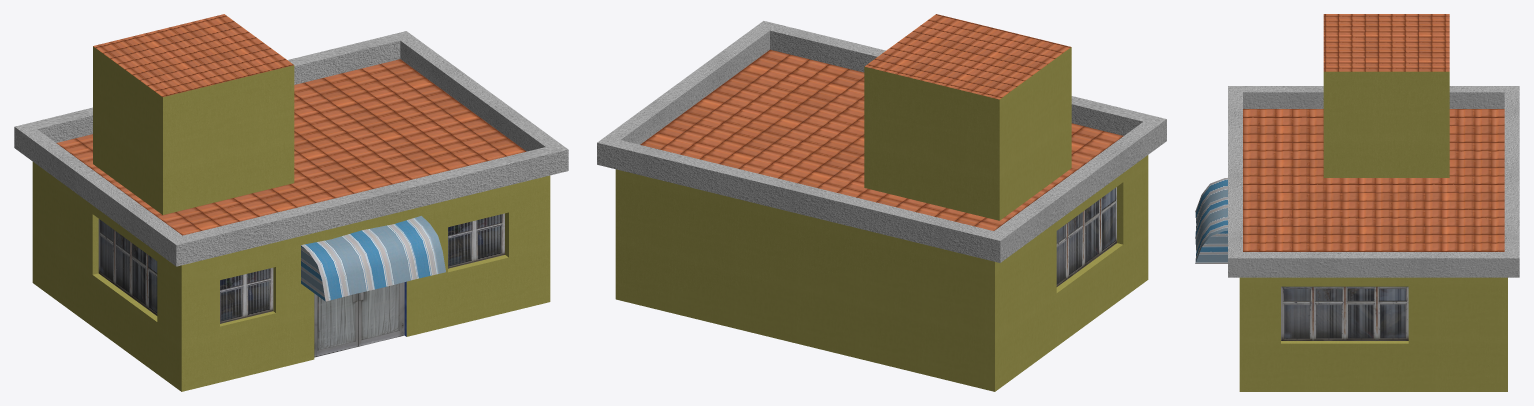
The model's file is predio4.fbx.
3 renders of one model, left to right at view 1: azimuth 30°, elevation 25°; view 2: azimuth 150°, elevation 25°; view 3: azimuth 270°, elevation 25°, orthographic. The views are drawn at different scales.
Parts seen in each view (by area): view 1: predio4; view 2: predio4; view 3: predio4.
Part boxes in pixels (<box>): predio4: <box>14,14,568,391</box>; predio4: <box>597,14,1166,391</box>; predio4: <box>1195,14,1519,391</box>.
Size of the model in its own units: 10.63 by 6.58 by 8.46.
